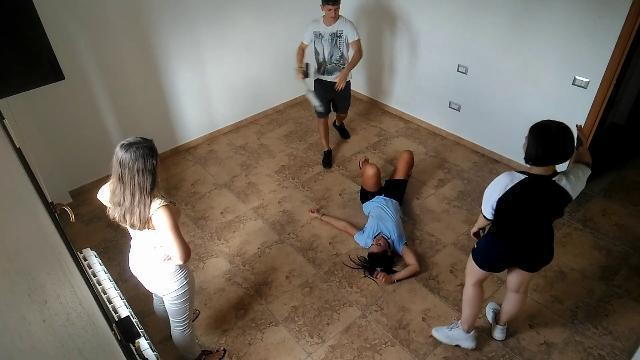non-violence: (430, 118, 594, 350), (95, 134, 228, 360), (306, 150, 426, 286)
violence: (296, 1, 364, 176)
weapon: (300, 63, 310, 81)
